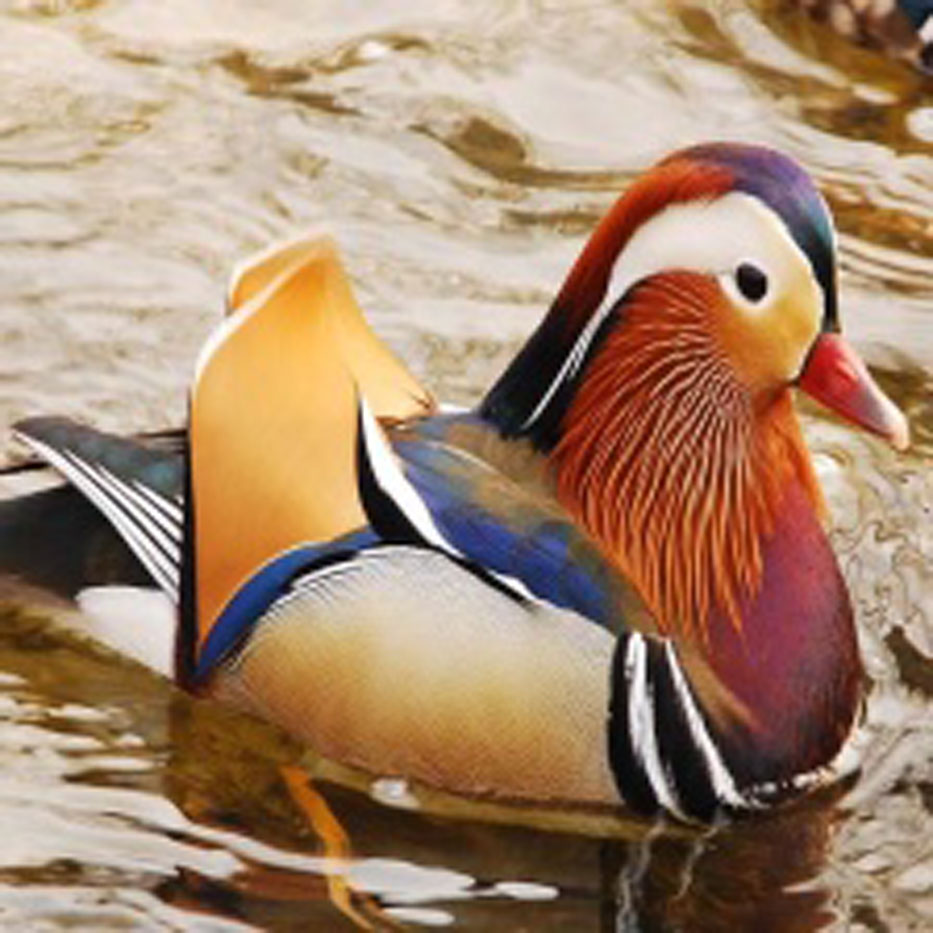Mencari Makan di Lumpur: (784, 328, 920, 469)
